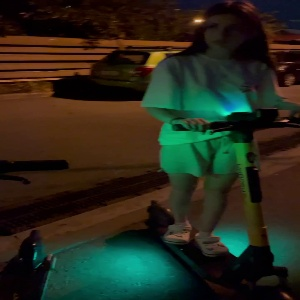human on a scooter: (139, 1, 300, 300)
